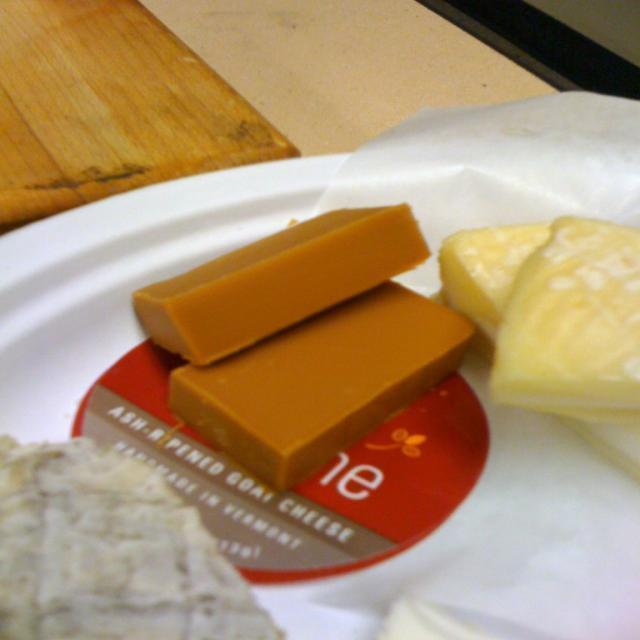Cheese: (438, 222, 639, 476), (486, 208, 640, 428)
